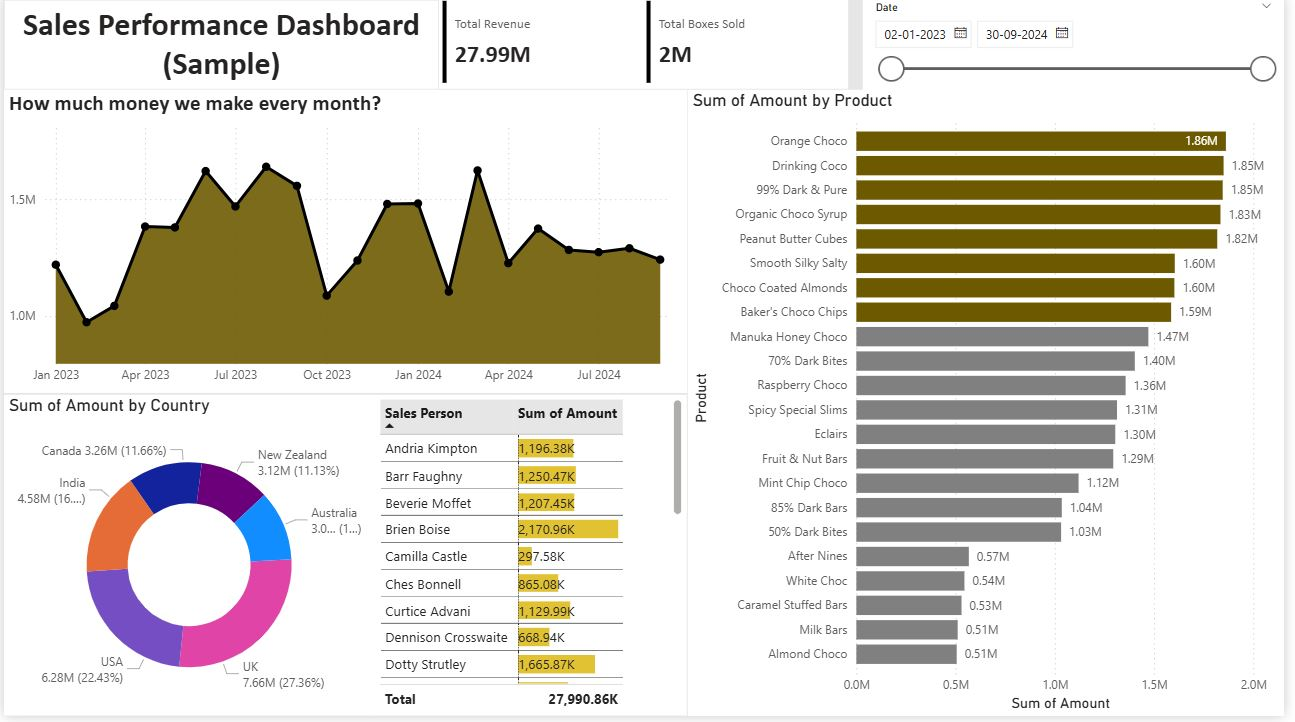

What the dashboard file says about the page in this screenshot:
{"tool":"powerbi","page":{"name":"Page 2","canvas":[1280,720],"ordinal":1},"visuals":[{"type":"lineChart","title":"How much money we make every month?","fields":{"Category":["data.Date.Variation.Date Hierarchy.Year","data.Date.Variation.Date Hierarchy.Quarter","data.Date.Variation.Date Hierarchy.Month","data.Date.Variation.Date Hierarchy.Day"],"Y":["data.Amount"]},"box":[0,93.3,683.4,303.3],"z":0},{"type":"donutChart","fields":{"Category":["data.Country"],"Y":["data.Amount"]},"box":[0,399.3,370.5,321.1],"z":1000},{"type":"tableEx","fields":{"Values":["data.Sales Person","data.Amount"]},"box":[370.5,399.3,312.9,321.1],"z":2000},{"type":"barChart","fields":{"Category":["data.Product"],"Y":["data.Amount"]},"box":[683.4,93.3,596.9,627.1],"z":2001},{"type":"cardVisual","fields":{"Data":["data.Amount","data.Boxes"]},"box":[434.3,0,410,92.9],"z":2002},{"type":"slicer","fields":{"Values":["data.Date"]},"box":[859,0,421.3,93.3],"z":2003},{"type":"textbox","box":[0,3.3,435,90],"z":2004}]}

Visuals, with their boxes in screenshot pixels (x1, y1, x2, y2), scaled from the page's 1280x720 canvas onto the 1295x722 screenshot:
"How much money we make every month?" lineChart: region(0, 94, 691, 398)
donutChart - data.Country x data.Amount: region(0, 400, 375, 721)
tableEx - data.Sales Person x data.Amount: region(375, 400, 691, 721)
barChart - data.Product x data.Amount: region(691, 94, 1294, 721)
cardVisual - data.Amount x data.Boxes: region(439, 0, 854, 93)
slicer - data.Date: region(869, 0, 1294, 94)
textbox: region(0, 3, 440, 94)
